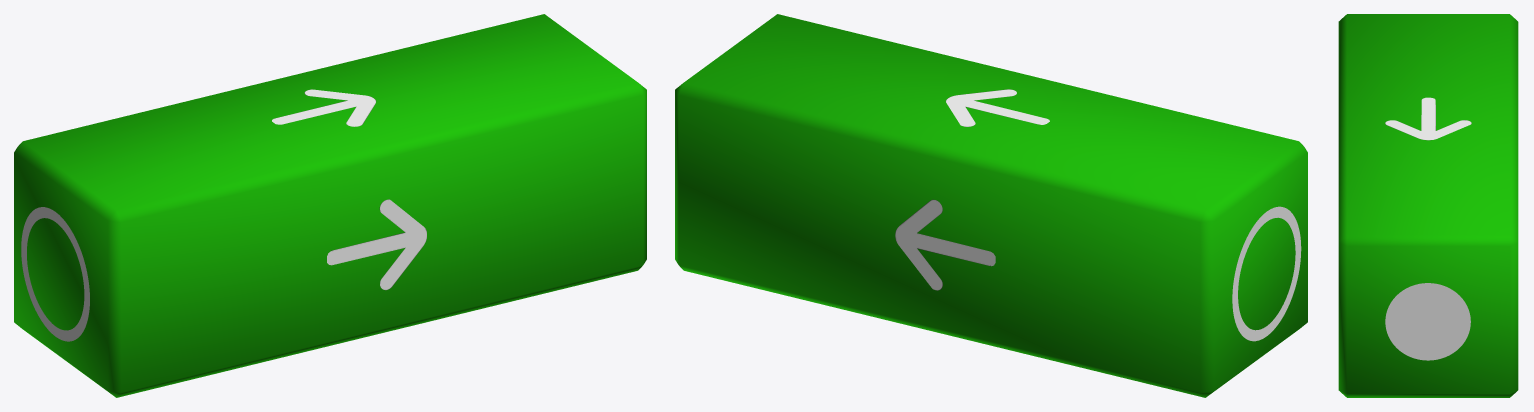
Rendered from BigBoxTapFlowBox_1_1_3__Clean_test2.fbx.
3 renders of one model, left to right at view 1: azimuth 30°, elevation 25°; view 2: azimuth 150°, elevation 25°; view 3: azimuth 270°, elevation 25°, orthographic. The views are drawn at different scales.
Parts seen in each view (by area): view 1: BigBoxTapFlowBox_1_1_3__Clean_test; view 2: BigBoxTapFlowBox_1_1_3__Clean_test; view 3: BigBoxTapFlowBox_1_1_3__Clean_test.
Part boxes in pixels (left/top/right/bottom): BigBoxTapFlowBox_1_1_3__Clean_test: left=14, top=14, right=646, bottom=397; BigBoxTapFlowBox_1_1_3__Clean_test: left=675, top=14, right=1307, bottom=397; BigBoxTapFlowBox_1_1_3__Clean_test: left=1338, top=14, right=1518, bottom=397.
Size of the model in its own units: 3.19 by 1.08 by 1.07.
